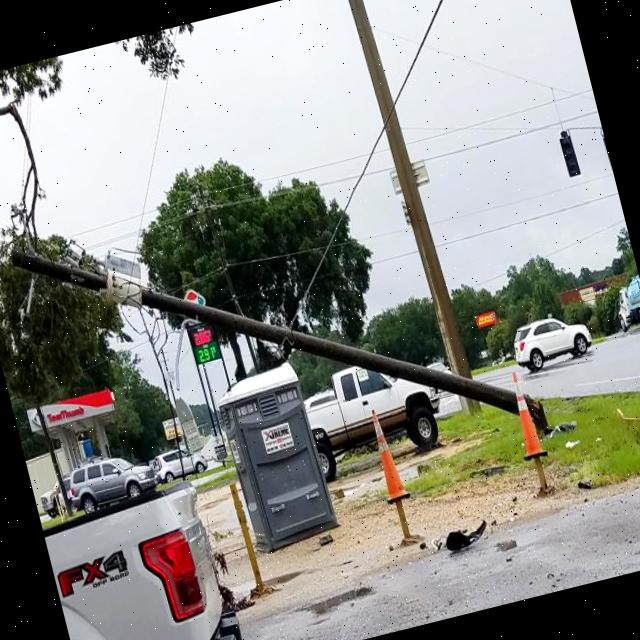Broken Pole: (3, 232, 545, 442)
